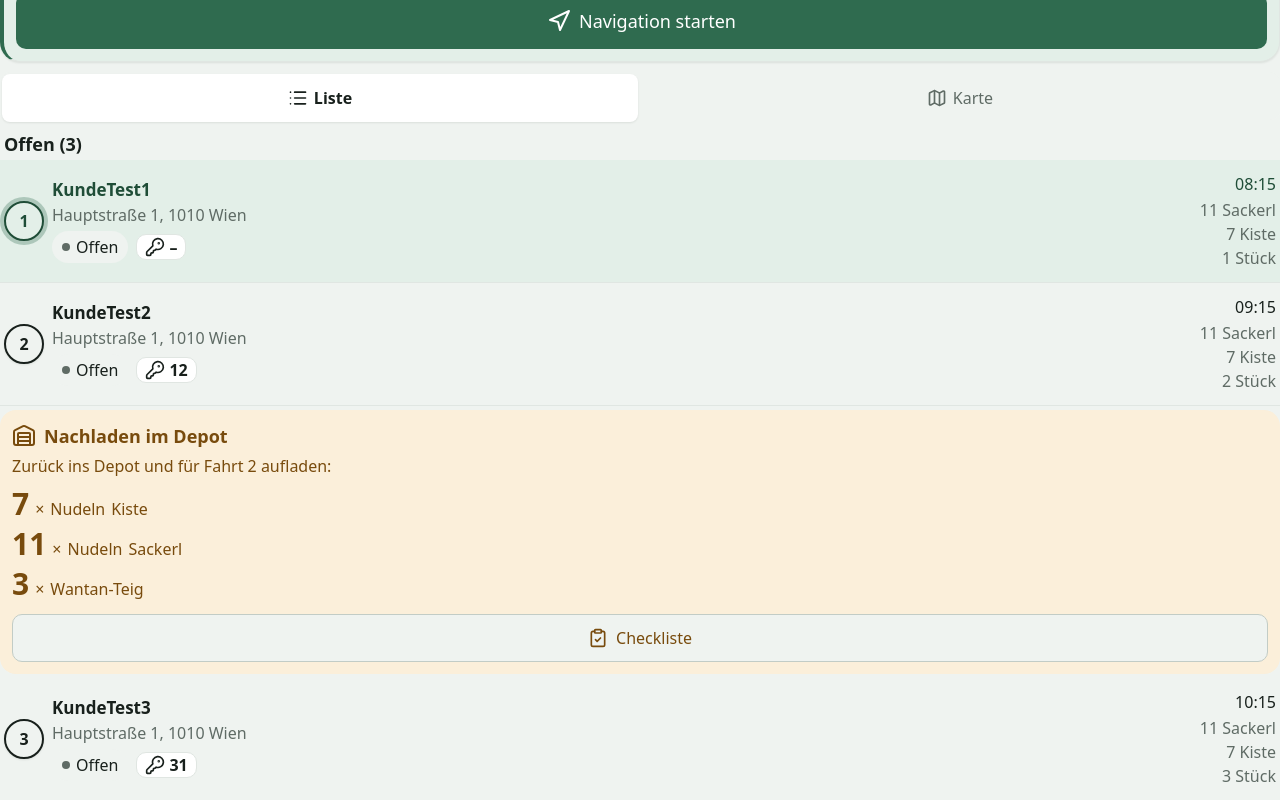
it: departure checklist in de › a reload trip has its own checklist with 'Fertig' and no departure
This screenshot has width=1280, height=800.
(page scrolled)
Click the button with test id "reload-checklist": [640, 638] box [12,614,1268,662]
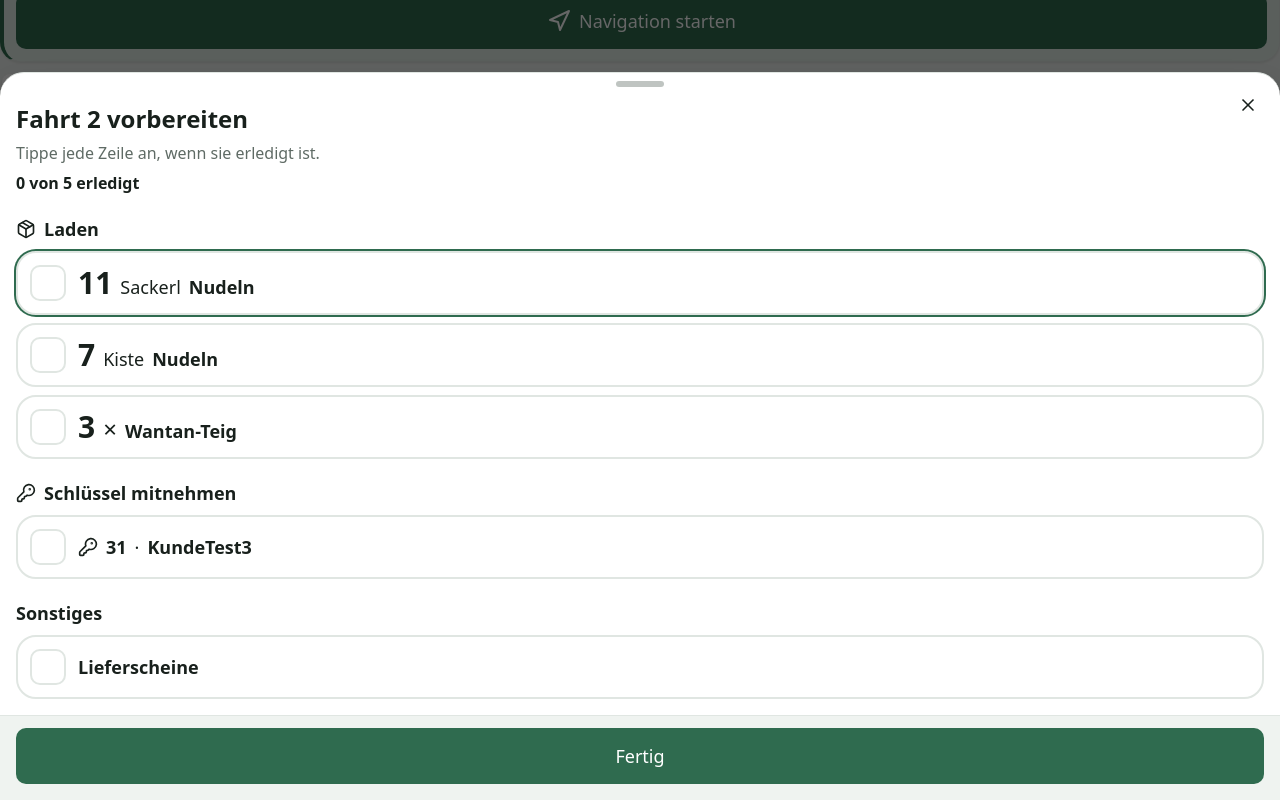
Expected: the number of checkboxes with test id "departure-product" is 3, [16,251,1264,315]; [16,323,1264,387]; [16,395,1264,459]
Expected: the checkbox with test id "departure-key" shows "31", [16,515,1264,579]
Click the button with test id "departure-finish": [640, 756] box [16,728,1264,784]
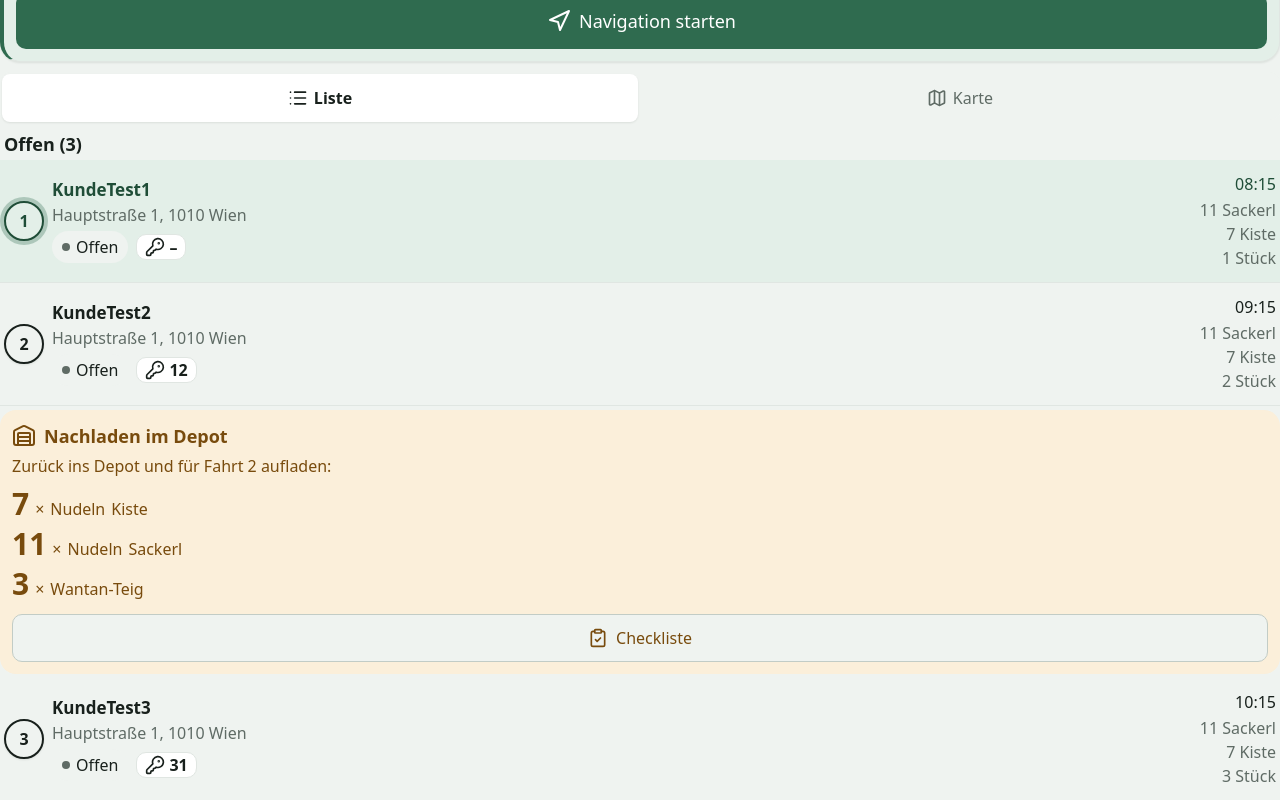
Expected: the dialog with test id "departure-sheet" is gone
